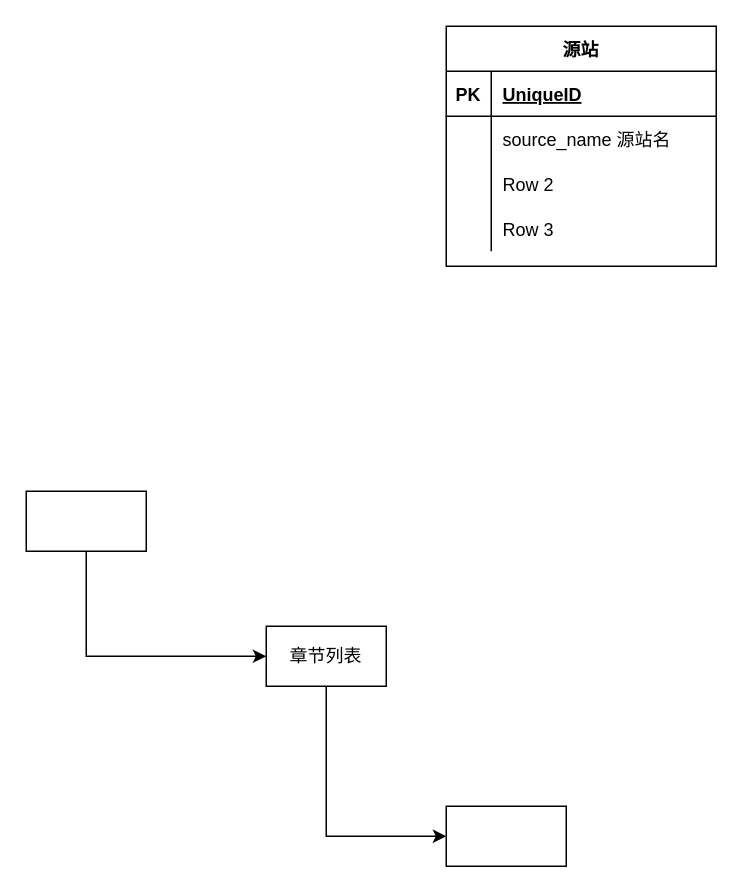
The diagram is 743 pixels wide and 893 high, and some of its shapes have lost their labels. The centre of each missing label's shape, as x and y in pixels:
小说ID列表: [85,520]
章节: [505,835]
